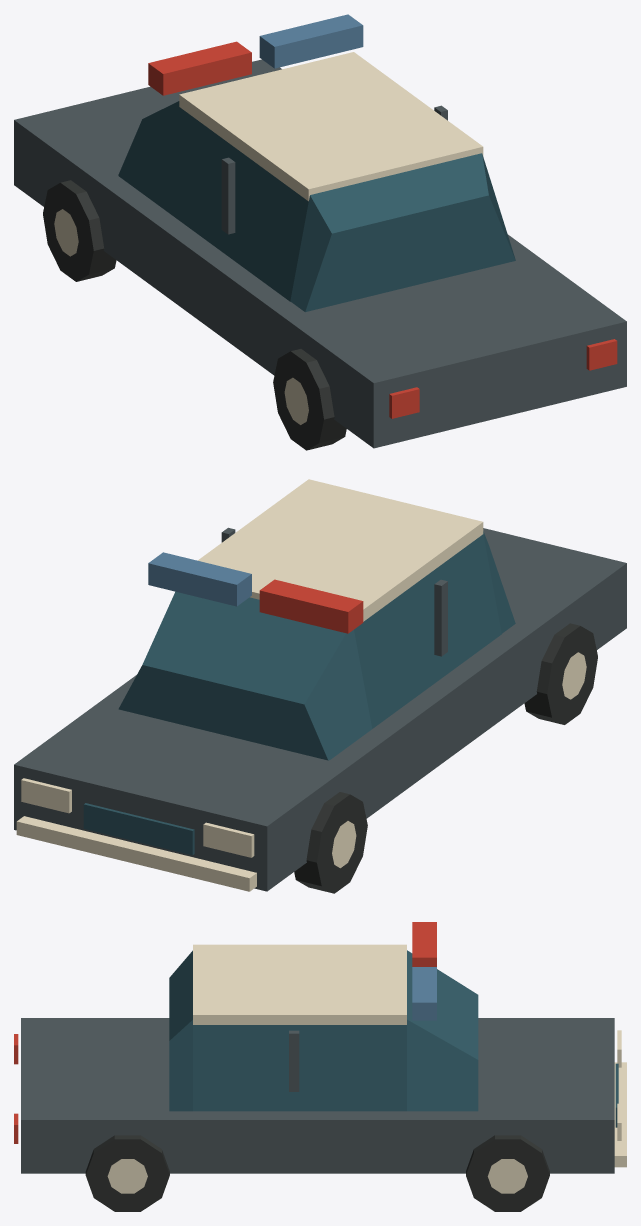
Rendered from police.glb.
The picture shows the model from 3 angles, top to bottom: view 1: azimuth 30°, elevation 25°; view 2: azimuth 150°, elevation 25°; view 3: azimuth 270°, elevation 25°; orthographic projection. The views are drawn at different scales.
Parts seen in each view (by area): view 1: PoliceModel traffic_cream, PoliceModel traffic_glass, PoliceModel traffic_rubber, PoliceModel traffic_red, Emergency beacon.001, PoliceModel traffic_metal; view 2: PoliceModel traffic_cream, PoliceModel traffic_glass, PoliceModel traffic_rubber, PoliceModel traffic_metal, PoliceModel traffic_red, Emergency beacon.001; view 3: PoliceModel traffic_cream, PoliceModel traffic_glass, PoliceModel traffic_rubber, PoliceModel traffic_metal, PoliceModel traffic_red, Emergency beacon.001.
Part boxes in pixels (box(x1,y1,x2,y2)): PoliceModel traffic_cream: box(14, 52, 626, 448); PoliceModel traffic_glass: box(118, 101, 515, 312); PoliceModel traffic_rubber: box(43, 180, 346, 450); PoliceModel traffic_red: box(148, 41, 617, 418); Emergency beacon.001: box(259, 14, 363, 68); PoliceModel traffic_metal: box(54, 209, 308, 424); PoliceModel traffic_cream: box(14, 479, 626, 891); PoliceModel traffic_glass: box(83, 531, 515, 855); PoliceModel traffic_rubber: box(294, 623, 597, 893); PoliceModel traffic_metal: box(16, 652, 586, 891); PoliceModel traffic_red: box(259, 579, 363, 633); Emergency beacon.001: box(148, 552, 251, 606); PoliceModel traffic_cream: box(21, 944, 621, 1173); PoliceModel traffic_glass: box(169, 950, 618, 1127); PoliceModel traffic_rubber: box(85, 1135, 549, 1211); PoliceModel traffic_metal: box(107, 1062, 626, 1193); PoliceModel traffic_red: box(14, 922, 436, 1143); Emergency beacon.001: box(412, 967, 436, 1020).
Size of the model in its own units: 2.14 by 1.73 by 4.95.
